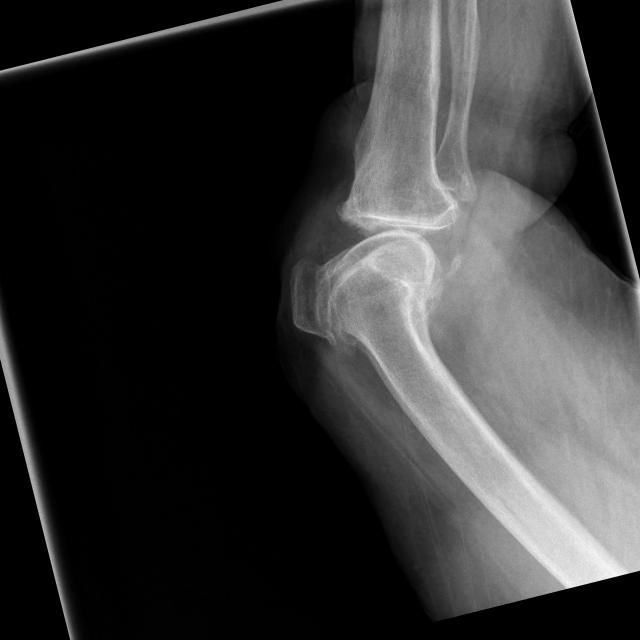Knee: (262, 152, 493, 370)
